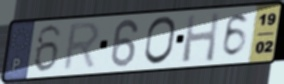6: (109, 17, 140, 69), (32, 23, 63, 75), (220, 12, 250, 59)
H: (180, 10, 222, 64)
O: (142, 15, 178, 67)
R: (60, 20, 103, 74)
